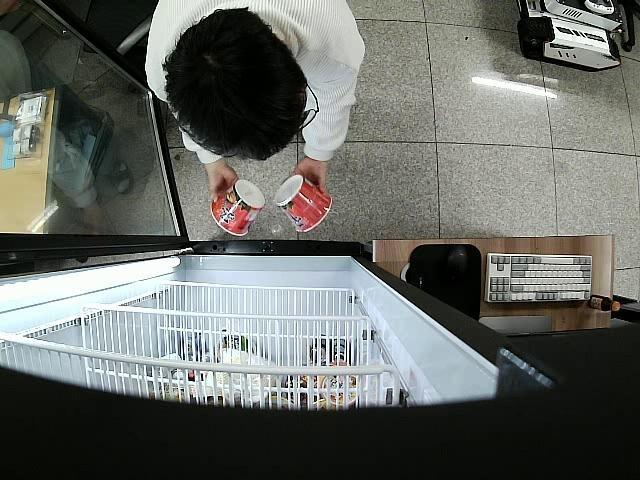01_ShinRamen_L: (273, 176, 332, 232), (210, 178, 266, 237)
